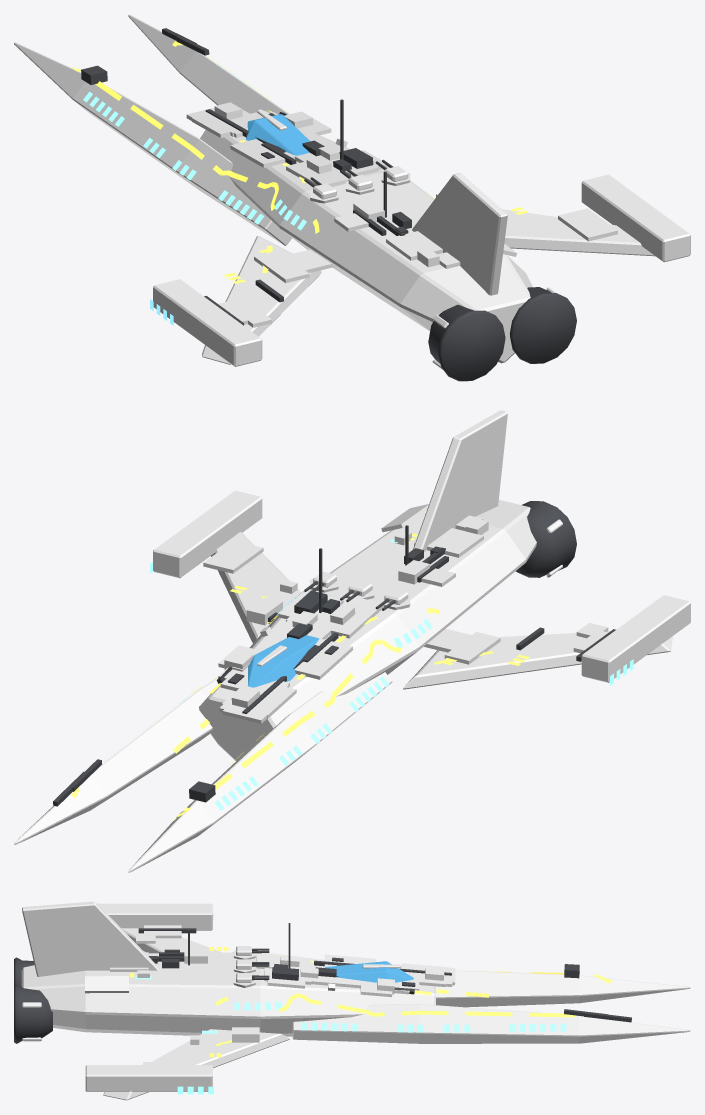
Rendered from klinok.glb.
3 renders of one model, top to bottom at view 1: azimuth 30°, elevation 25°; view 2: azimuth 150°, elevation 25°; view 3: azimuth 270°, elevation 25°, orthographic. The views are drawn at different scales.
Parts seen in each view (by area): view 1: Корпус, Накладные_плиты, Клык.001, Киль, Пушечная_гондола.001, Пушечная_гондола, Кожух_дюзы.001, Кожух_дюзы, Механика, Клык, Крыло, Крыло.001 (+3 smaller); view 2: Корпус, Накладные_плиты, Клык.001, Клык, Киль, Крыло.001, Пушечная_гондола, Пушечная_гондола.001, Механика, Крыло, Кожух_дюзы.001, Разметка (+2 smaller); view 3: Корпус, Клык, Киль, Накладные_плиты, Клык.001, Пушечная_гондола, Крыло, Пушечная_гондола.001, Механика, Кожух_дюзы, Разметка, Решётки (+2 smaller).
Boxes of the visible parts, x1,y1,x2,y2 form: Корпус: (200, 110, 532, 363); Накладные_плиты: (186, 102, 617, 327); Клык.001: (14, 42, 291, 245); Киль: (412, 173, 507, 295); Пушечная_гондола.001: (153, 279, 262, 366); Пушечная_гондола: (581, 174, 690, 262); Кожух_дюзы.001: (428, 304, 505, 381); Кожух_дюзы: (509, 287, 576, 363); Механика: (81, 28, 411, 325); Клык: (128, 14, 288, 114); Крыло: (502, 209, 654, 256); Крыло.001: (202, 236, 321, 364); Корпус: (199, 499, 536, 760); Накладные_плиты: (203, 504, 608, 723); Клык.001: (128, 672, 392, 872); Клык: (14, 677, 218, 844); Киль: (413, 410, 507, 551); Крыло.001: (403, 631, 672, 689); Пушечная_гондола: (153, 490, 262, 578); Пушечная_гондола.001: (581, 595, 690, 682); Механика: (53, 525, 615, 806); Крыло: (211, 532, 301, 643); Кожух_дюзы.001: (515, 501, 576, 577); Разметка: (71, 511, 529, 820); Корпус: (21, 952, 435, 1036); Клык: (292, 1004, 690, 1043); Киль: (22, 901, 159, 976); Накладные_плиты: (85, 925, 455, 1064); Клык.001: (436, 970, 690, 1007); Пушечная_гондола: (85, 1065, 212, 1091); Крыло: (103, 1029, 289, 1100); Пушечная_гондола.001: (97, 903, 212, 930); Механика: (138, 923, 631, 1022); Кожух_дюзы: (14, 984, 52, 1043); Разметка: (130, 947, 610, 1057); Решётки: (135, 913, 566, 1094).
Size of the model in its own units: 1.31 by 0.4666 by 2.12.
